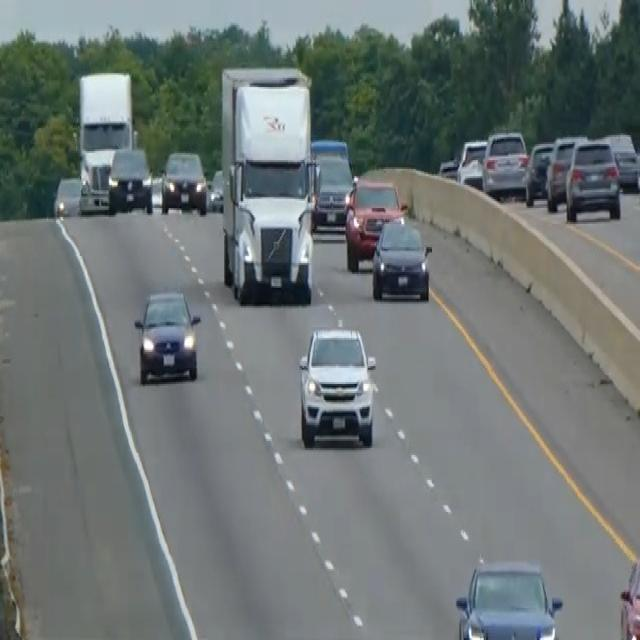car: (454, 558, 563, 638), (133, 286, 201, 384), (344, 176, 407, 272), (371, 215, 431, 302), (564, 137, 621, 222), (310, 137, 354, 229), (481, 128, 529, 197), (107, 144, 153, 213), (545, 133, 586, 210), (160, 148, 207, 215), (601, 130, 639, 192), (523, 138, 555, 204), (78, 156, 111, 214), (618, 555, 639, 638), (456, 137, 487, 188), (53, 174, 82, 217), (208, 167, 224, 212), (438, 154, 459, 180)
jeep: (296, 320, 378, 450)
lorry: (219, 62, 317, 304)
